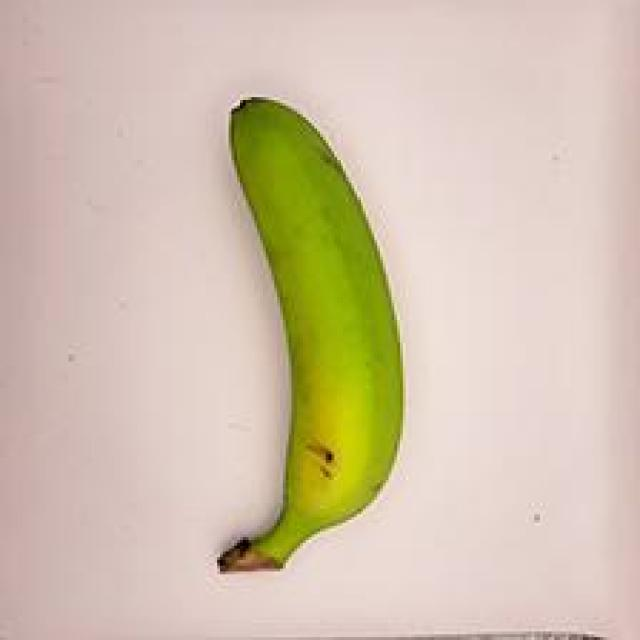Unripe: (151, 86, 442, 577)
